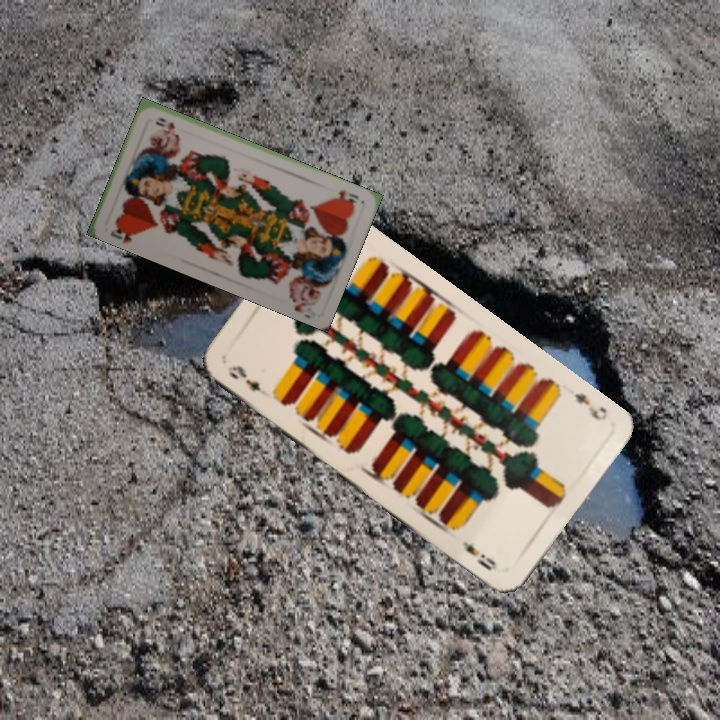E9: (570, 389, 610, 424), (223, 361, 264, 395)
HO: (106, 220, 141, 245), (335, 183, 361, 208)
